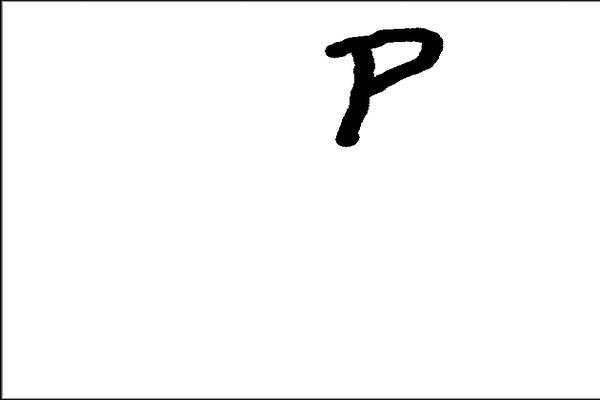P: (319, 22, 451, 154)
